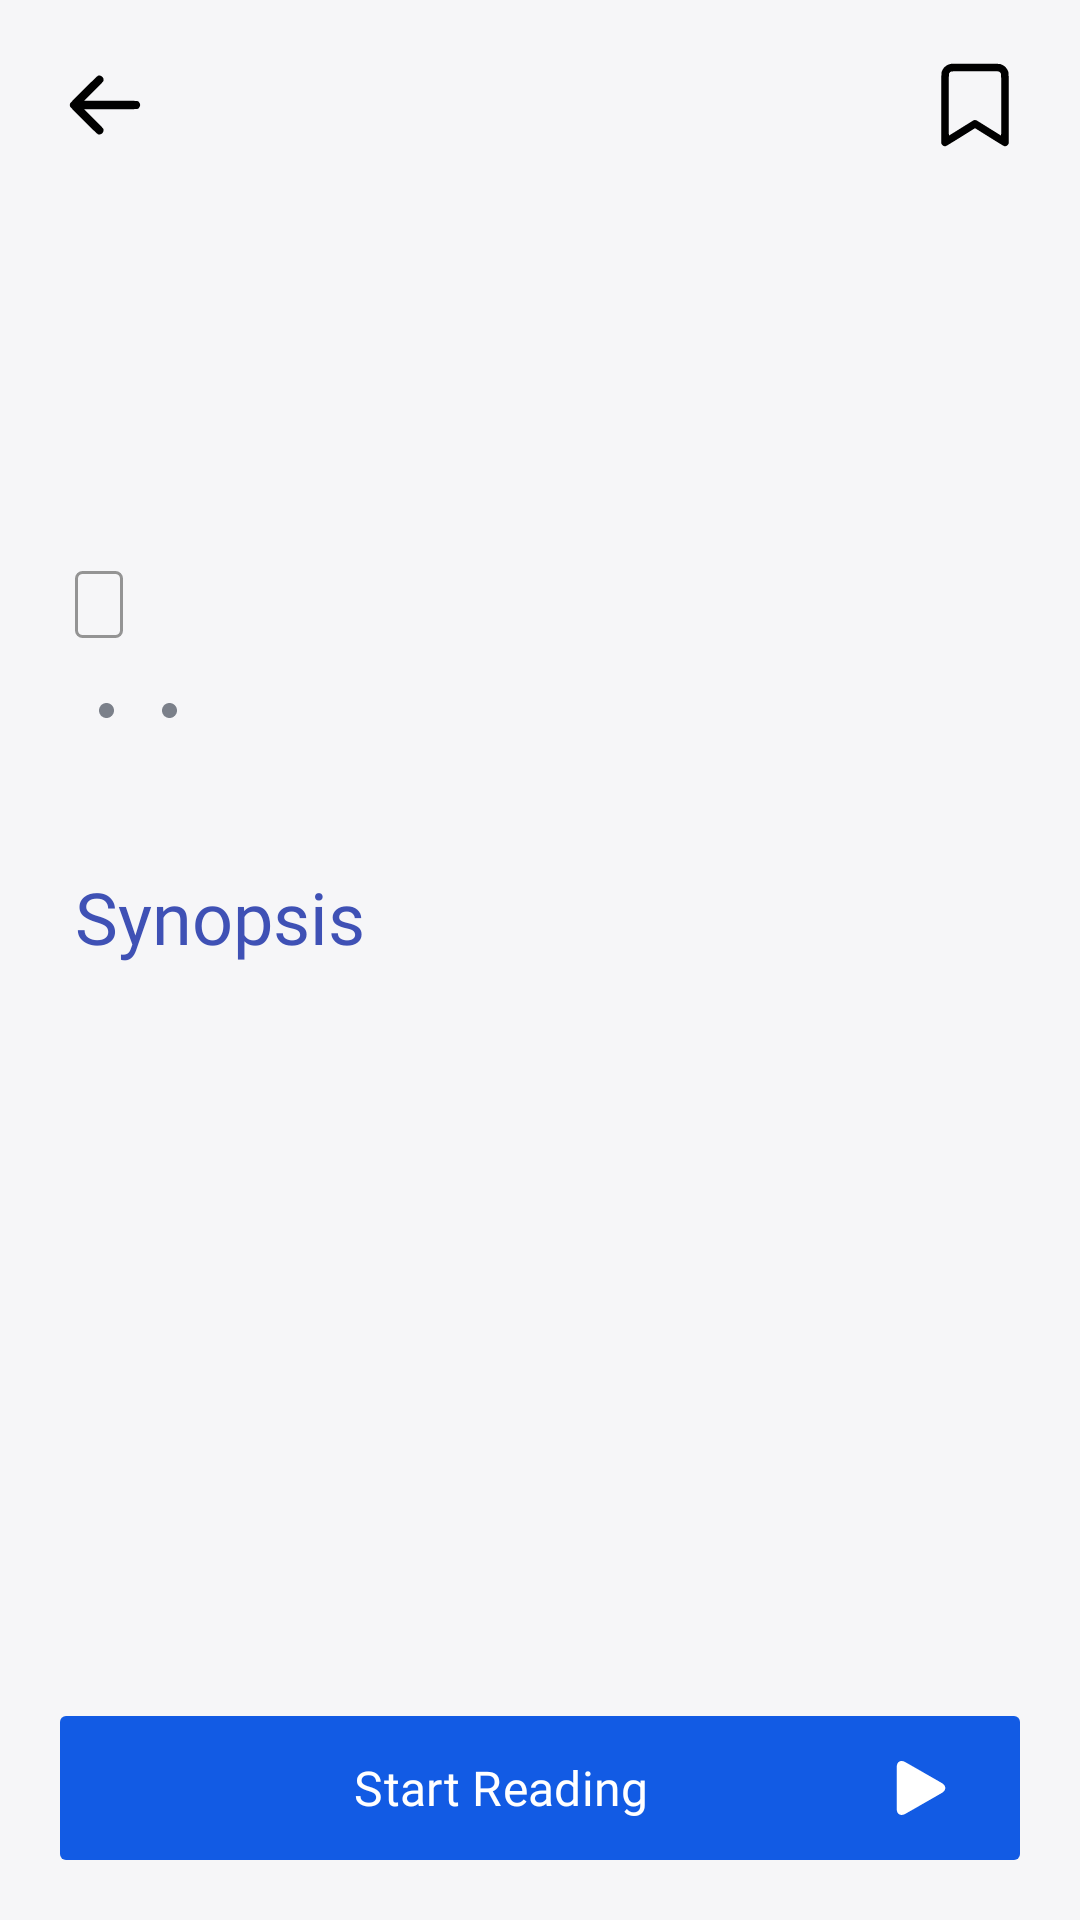

Screen size 1080x1920. Icon name, then its box in pixels as (x1, y1, x2, y2):
back: (69, 75, 140, 135)
bookmark: (941, 63, 1009, 147)
